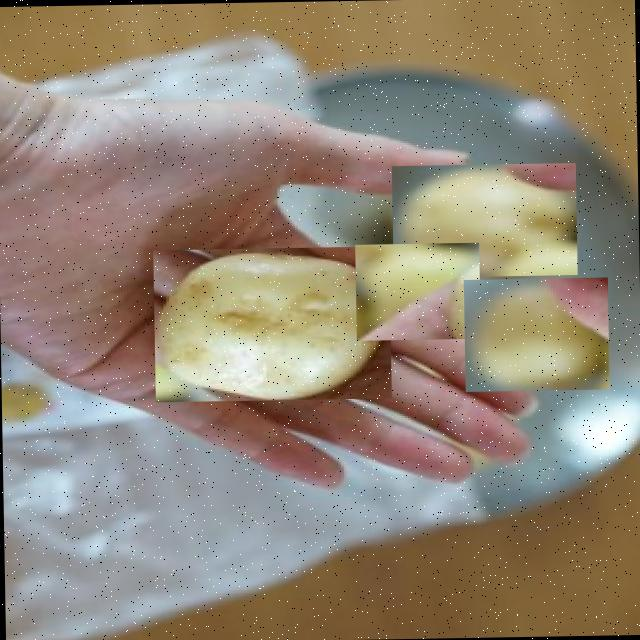Potato: (152, 245, 392, 401), (392, 162, 578, 276), (464, 276, 610, 390), (354, 242, 480, 340)
